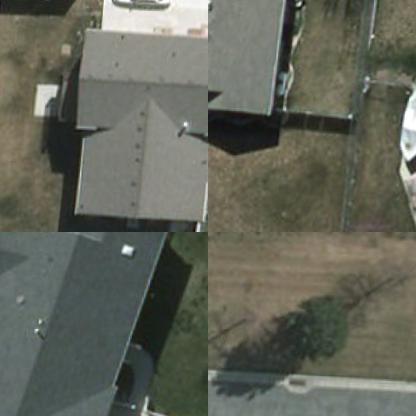boat: (396, 83, 415, 167)
